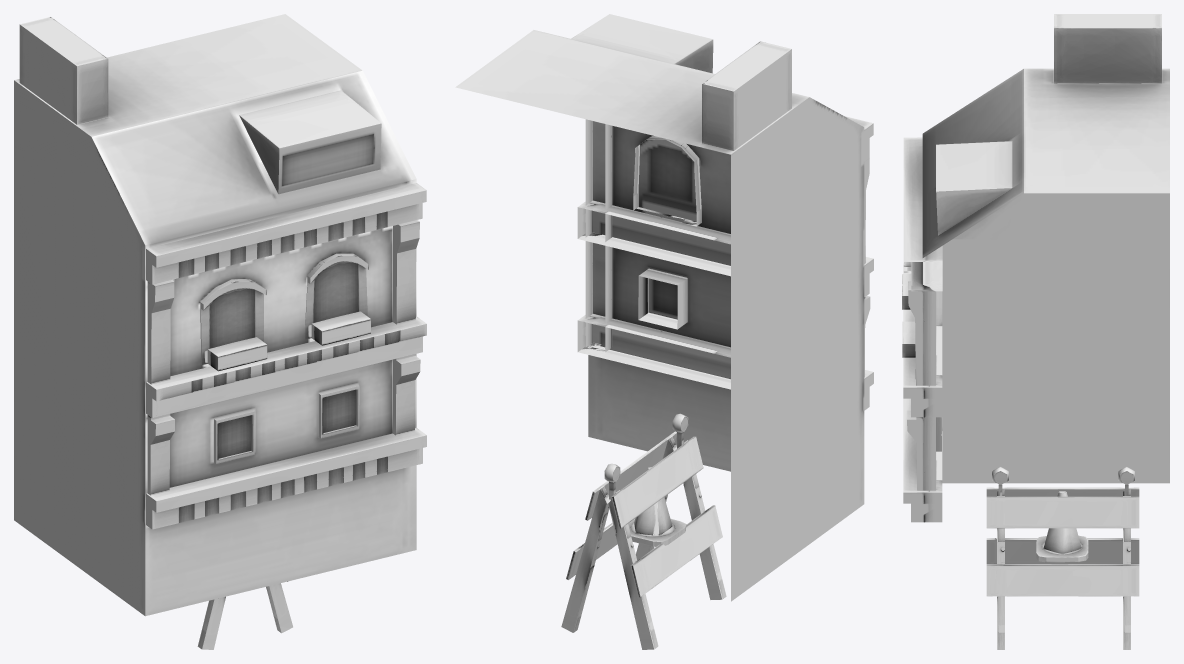
The model's file is Models 1.FBX.
The picture shows the model from 3 angles, left to right: view 1: azimuth 30°, elevation 25°; view 2: azimuth 150°, elevation 25°; view 3: azimuth 270°, elevation 25°; orthographic projection. The views are drawn at different scales.
Visible parts, largest first — view 1: flatLow, Object002; view 2: flatLow, Object002, Object001; view 3: flatLow, Object002, Object001.
Part boxes in pixels (x1,y1,x2,y2): flatLow: (14, 14, 426, 616); Object002: (197, 581, 292, 649); flatLow: (455, 14, 873, 601); Object002: (561, 413, 726, 649); Object001: (628, 467, 686, 546); flatLow: (902, 14, 1169, 522); Object002: (986, 467, 1139, 649); Object001: (1036, 491, 1088, 562).
Bounding box in the file's own units: 35.43 × 73.26 × 32.14.
